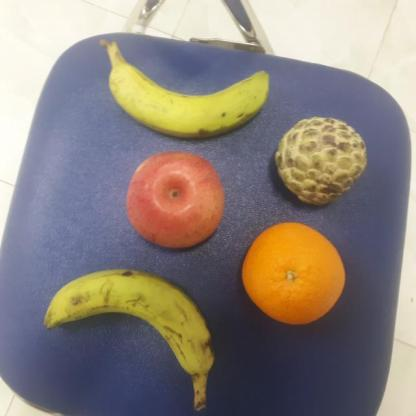annona: (272, 114, 370, 208)
apple: (124, 148, 226, 250)
banana: (46, 268, 215, 379), (105, 56, 270, 138)
orange: (236, 222, 346, 328)
